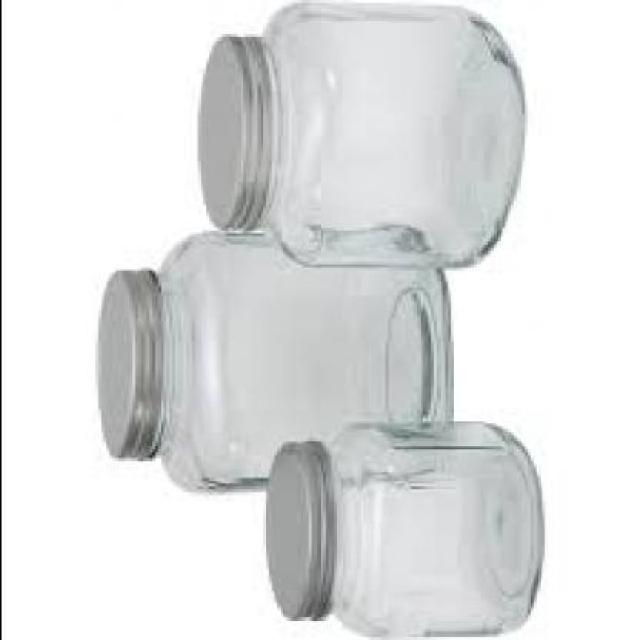GLASS: (154, 222, 449, 492), (256, 0, 521, 265), (321, 418, 537, 637)
METAL: (194, 31, 268, 224), (95, 267, 159, 458), (262, 438, 330, 617)
